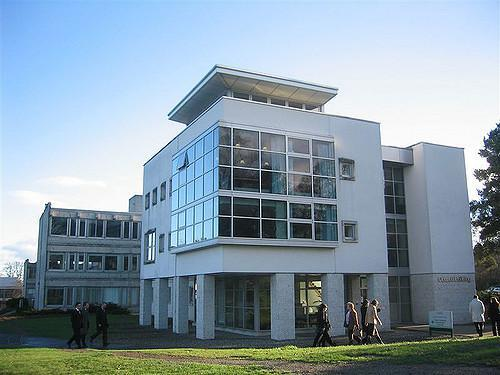affected: (24, 62, 486, 364)
